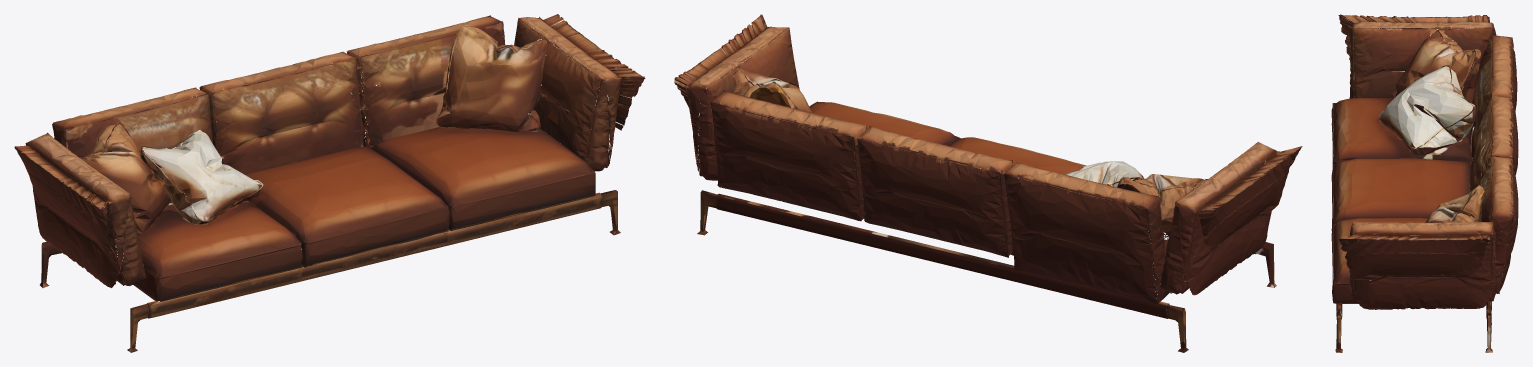
The model's file is edited_mesh.glb.
3 views of the same model, side by side, from view 1: azimuth 30°, elevation 25°; view 2: azimuth 150°, elevation 25°; view 3: azimuth 270°, elevation 25° (orthographic). The views are drawn at different scales.
Visible parts, largest first — view 1: solid_001_wire; view 2: solid_001_wire; view 3: solid_001_wire.
Boxes of the visible parts, left/top/right/bottom form: solid_001_wire: left=14, top=14, right=645, bottom=352; solid_001_wire: left=674, top=14, right=1302, bottom=352; solid_001_wire: left=1331, top=14, right=1518, bottom=352.
Size of the model in its own units: 2 by 0.577 by 0.7051.
1 material, 1 textured.
